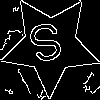S: (25, 20, 69, 74)
